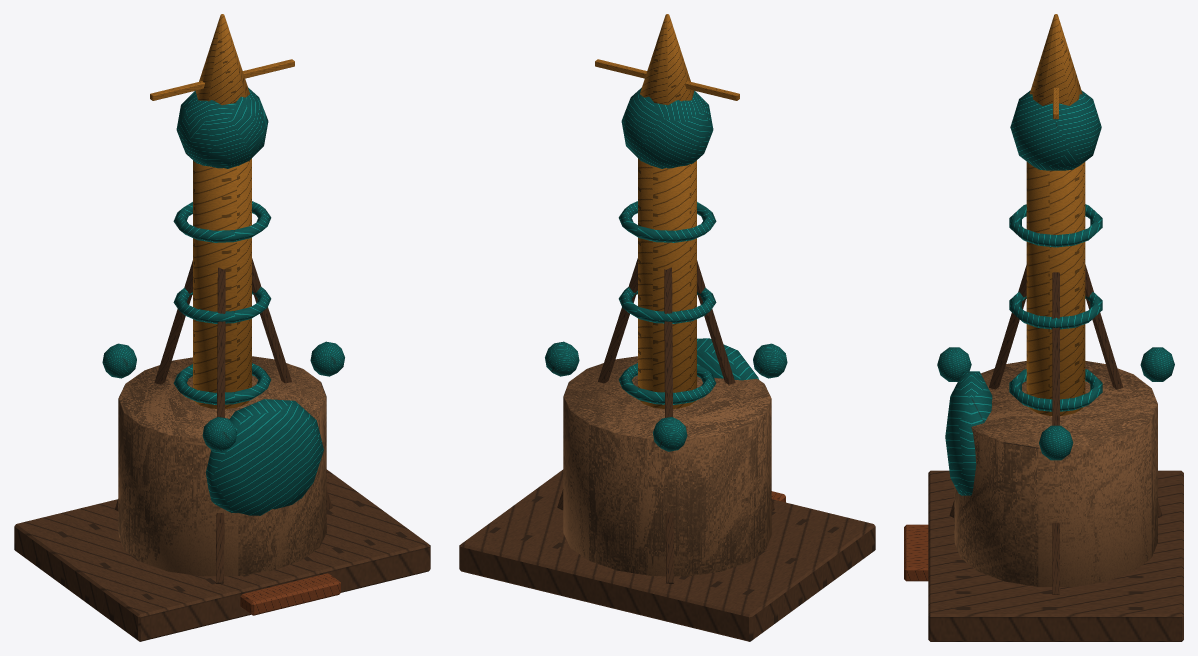
The model's file is weather-warden-spire.glb.
3 views of the same model, side by side, from view 1: azimuth 30°, elevation 25°; view 2: azimuth 150°, elevation 25°; view 3: azimuth 270°, elevation 25° (orthographic).
Parts seen in each view (by area): view 1: weather-warden-spire; view 2: weather-warden-spire; view 3: weather-warden-spire.
Boxes of the visible parts, x1,y1,x2,y2 form: weather-warden-spire: (14,14,430,641); weather-warden-spire: (459,14,875,641); weather-warden-spire: (904,14,1183,641).
Bounding box in the file's own units: 3.78 × 6.75 × 3.08.
Materials: 1 (1 with a texture image).
